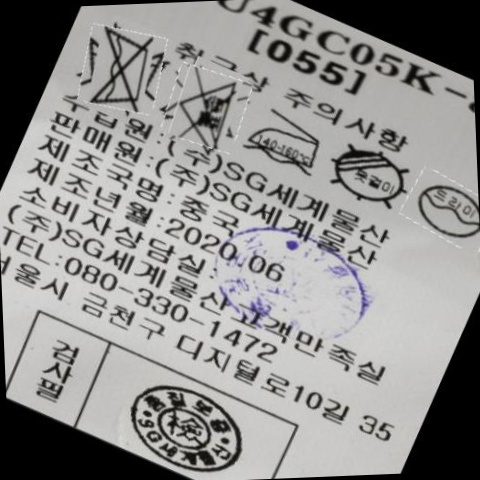DN_wash: (85, 26, 164, 111)
dry_clean: (413, 173, 480, 247)
iron_medium: (248, 114, 325, 171)
line_dry_in_shade: (329, 146, 413, 206)
non_chlorine_bleach: (176, 73, 244, 145)
